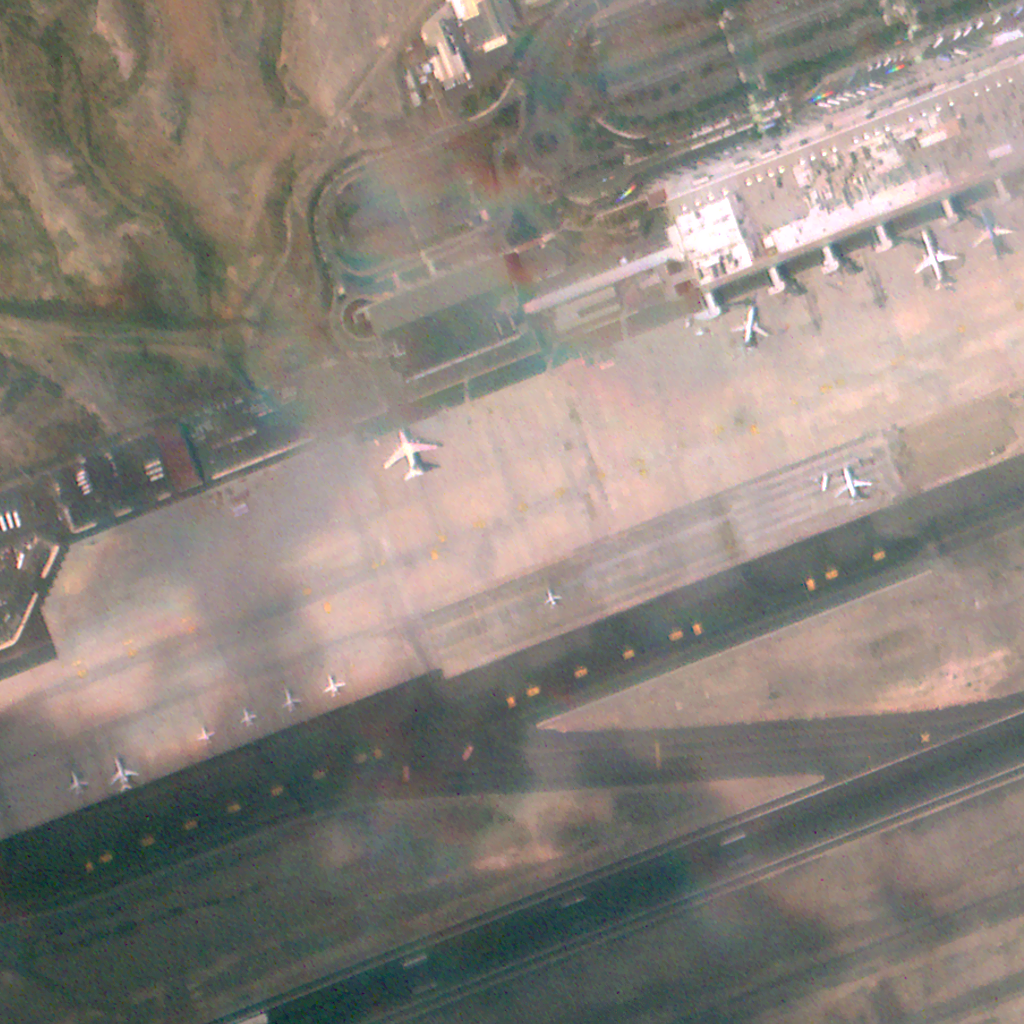plane: (381, 428, 441, 478), (913, 228, 959, 289), (974, 208, 1015, 261), (733, 306, 774, 346), (833, 469, 876, 500), (109, 756, 139, 791), (322, 674, 352, 698), (194, 722, 218, 750), (67, 771, 87, 795), (239, 706, 259, 728), (278, 689, 300, 709), (544, 589, 565, 608)
